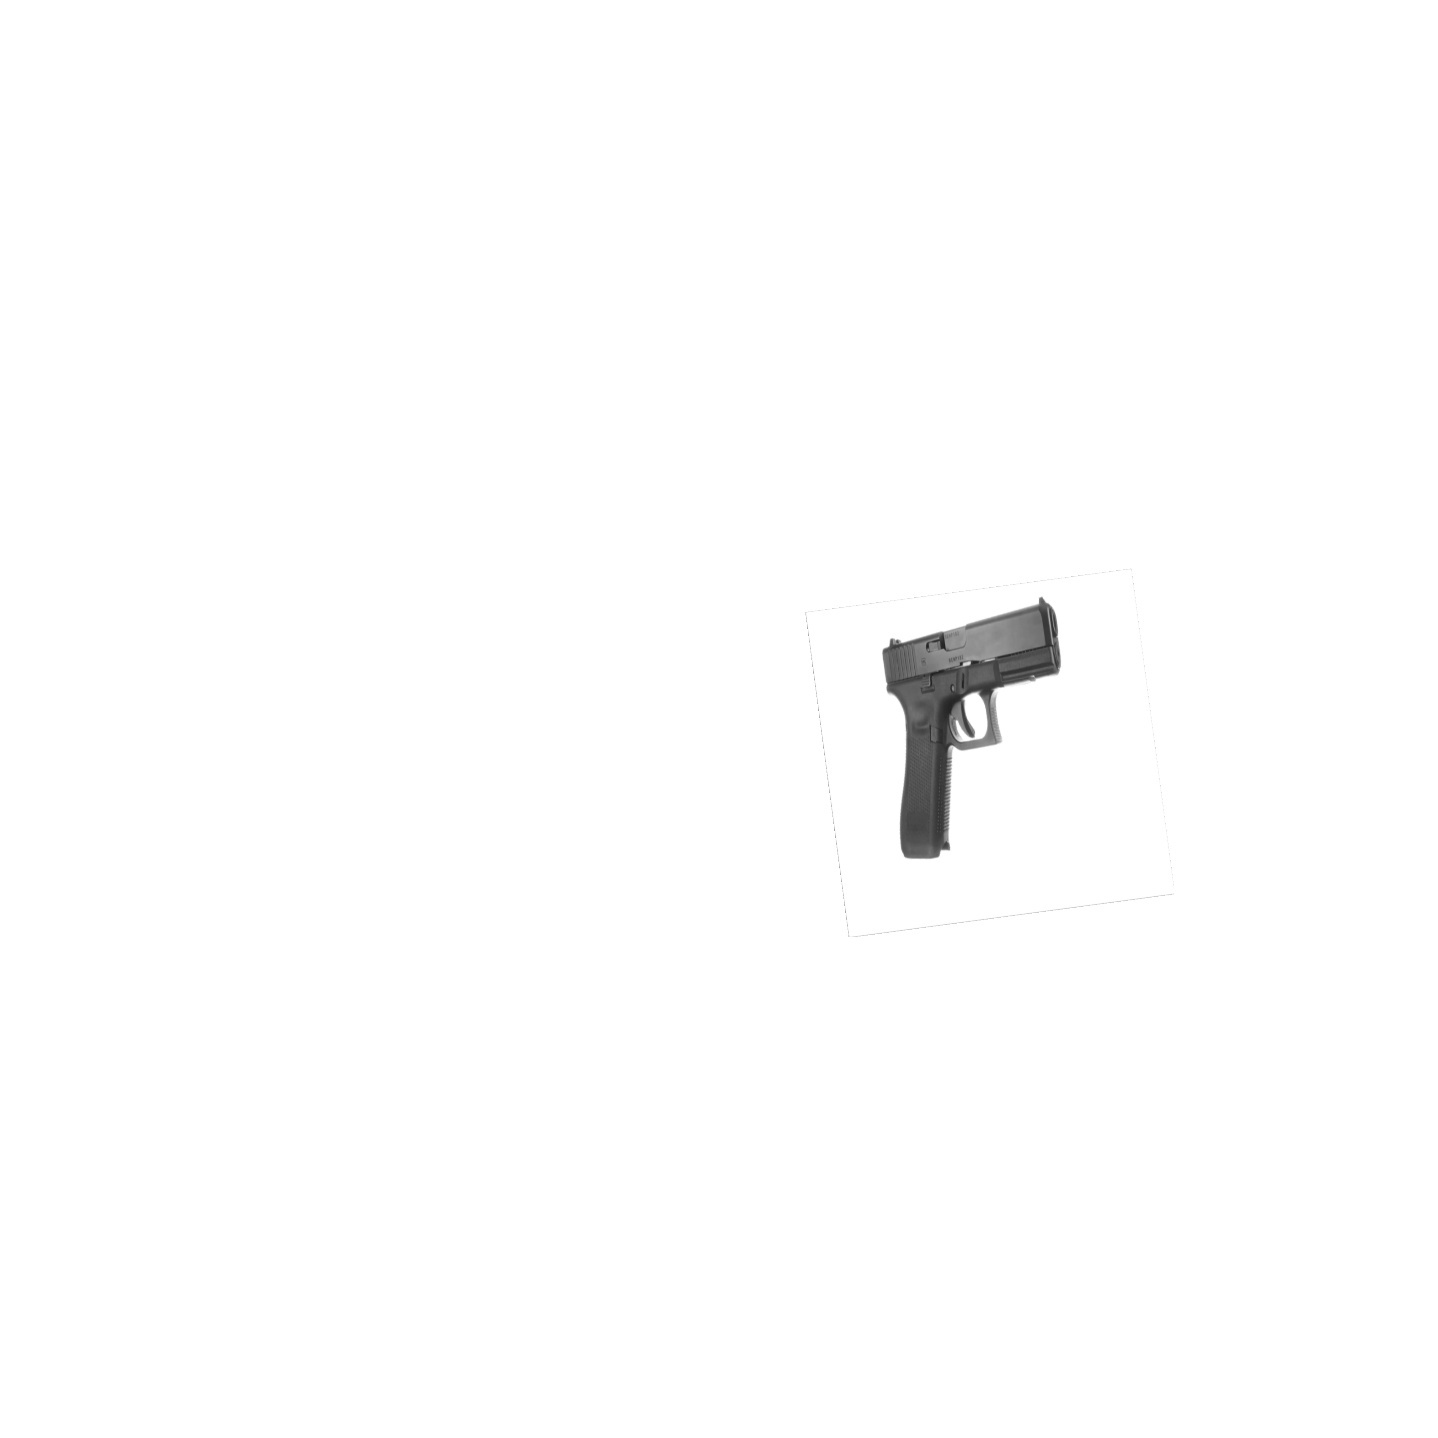gun: (880, 598, 1073, 863)
